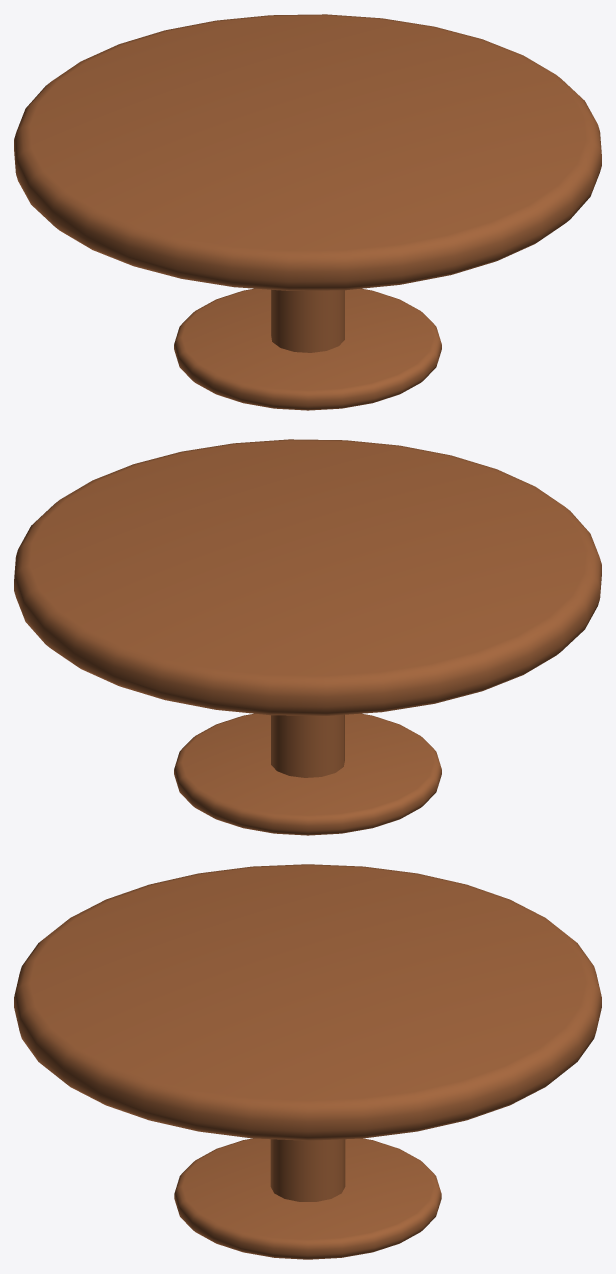
File: coffee_table.glb
3 views of the same model, one above another, from view 1: azimuth 30°, elevation 25°; view 2: azimuth 150°, elevation 25°; view 3: azimuth 270°, elevation 25° (orthographic).
Visible parts, largest first — view 1: CoffeeTable; view 2: CoffeeTable; view 3: CoffeeTable.
Boxes of the visible parts, x1,y1,x2,y2 form: CoffeeTable: [14, 14, 601, 410]; CoffeeTable: [14, 439, 601, 835]; CoffeeTable: [14, 864, 601, 1259].
Bounding box in the file's own units: 1.1 × 0.46 × 1.1.
